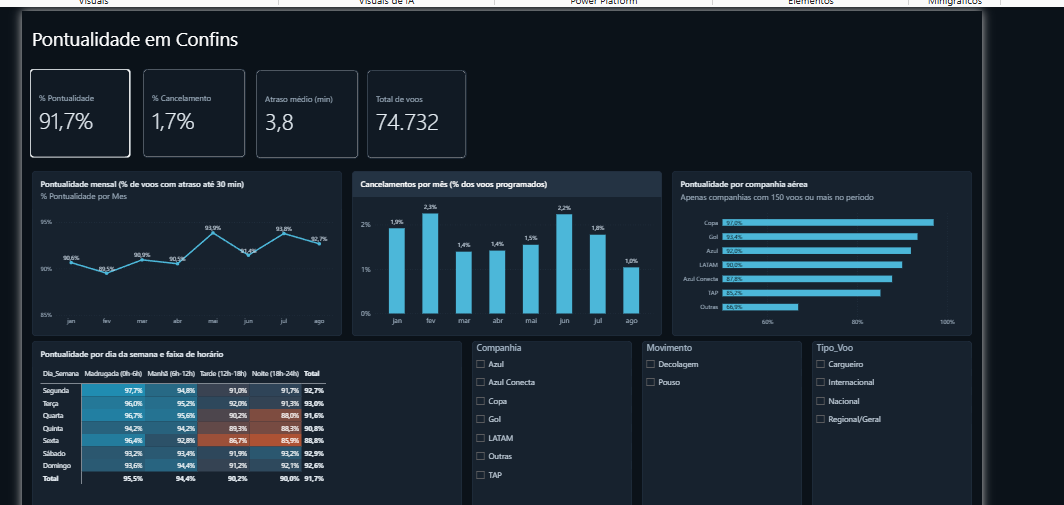

What the dashboard file says about the page in this screenshot:
{"tool":"powerbi","page":{"name":"Página 1","canvas":[1920,1260],"ordinal":0},"visuals":[{"type":"cardVisual","fields":{"Data":["voos_confins.% Pontualidade"]},"box":[15,115.2,200.9,177.1],"z":0},{"type":"cardVisual","fields":{"Data":["voos_confins.% Cancelamento"]},"box":[242.5,115.2,205.2,177.1],"z":1000},{"type":"cardVisual","fields":{"Data":["voos_confins.Atraso Medio (min)"]},"box":[467.5,117.7,205.2,177.1],"z":5000},{"type":"cardVisual","fields":{"Data":["voos_confins.Total Voos (cartao)"]},"box":[690,117.7,198.7,177.1],"z":5002},{"type":"lineChart","title":"Pontualidade mensal (% de voos com atraso até 30 min)","fields":{"Category":["Calendario.Mes"],"Y":["voos_confins.% Pontualidade"]},"box":[20,320.2,620,330],"z":5003},{"type":"columnChart","title":"Cancelamentos por mês (% dos voos programados)","fields":{"Category":["Calendario.Mes"],"Y":["voos_confins.% Cancelamento"]},"box":[660,320.2,620,330],"z":5004},{"type":"barChart","title":"Pontualidade por companhia aérea","fields":{"Category":["voos_confins.Companhia"],"Y":["voos_confins.% Pontualidade"]},"box":[1300,320.2,600,330],"z":5005},{"type":"pivotTable","title":"Pontualidade por dia da semana e faixa de horário","fields":{"Columns":["voos_confins.Faixa_Horario"],"Rows":["voos_confins.Dia_Semana"],"Values":["voos_confins.% Pontualidade"]},"box":[20,660.2,860,340],"z":5006},{"type":"slicer","fields":{"Values":["voos_confins.Companhia"]},"box":[900,660,320,340],"z":5007},{"type":"slicer","fields":{"Values":["voos_confins.Movimento"]},"box":[1240,660,320,340],"z":5008},{"type":"slicer","fields":{"Values":["voos_confins.Tipo_Voo"]},"box":[1580,660,320,340],"z":5009},{"type":"textbox","box":[20,30,900,80],"z":5010}]}

Visuals, with their boxes on the page's 1920x1260 design canvas (x1, y1, x2, y2). These are canvas units, not pixel positions in the 1064x505 screenshot, which may show the page scaled, cropped or inside an application window:
cardVisual - voos_confins.% Pontualidade: box(15, 115, 216, 292)
cardVisual - voos_confins.% Cancelamento: box(242, 115, 448, 292)
cardVisual - voos_confins.Atraso Medio (min): box(468, 118, 673, 295)
cardVisual - voos_confins.Total Voos (cartao): box(690, 118, 889, 295)
"Pontualidade mensal (% de voos com atraso até 30 min)" lineChart: box(20, 320, 640, 650)
"Cancelamentos por mês (% dos voos programados)" columnChart: box(660, 320, 1280, 650)
"Pontualidade por companhia aérea" barChart: box(1300, 320, 1900, 650)
"Pontualidade por dia da semana e faixa de horário" pivotTable: box(20, 660, 880, 1000)
slicer - voos_confins.Companhia: box(900, 660, 1220, 1000)
slicer - voos_confins.Movimento: box(1240, 660, 1560, 1000)
slicer - voos_confins.Tipo_Voo: box(1580, 660, 1900, 1000)
textbox: box(20, 30, 920, 110)
